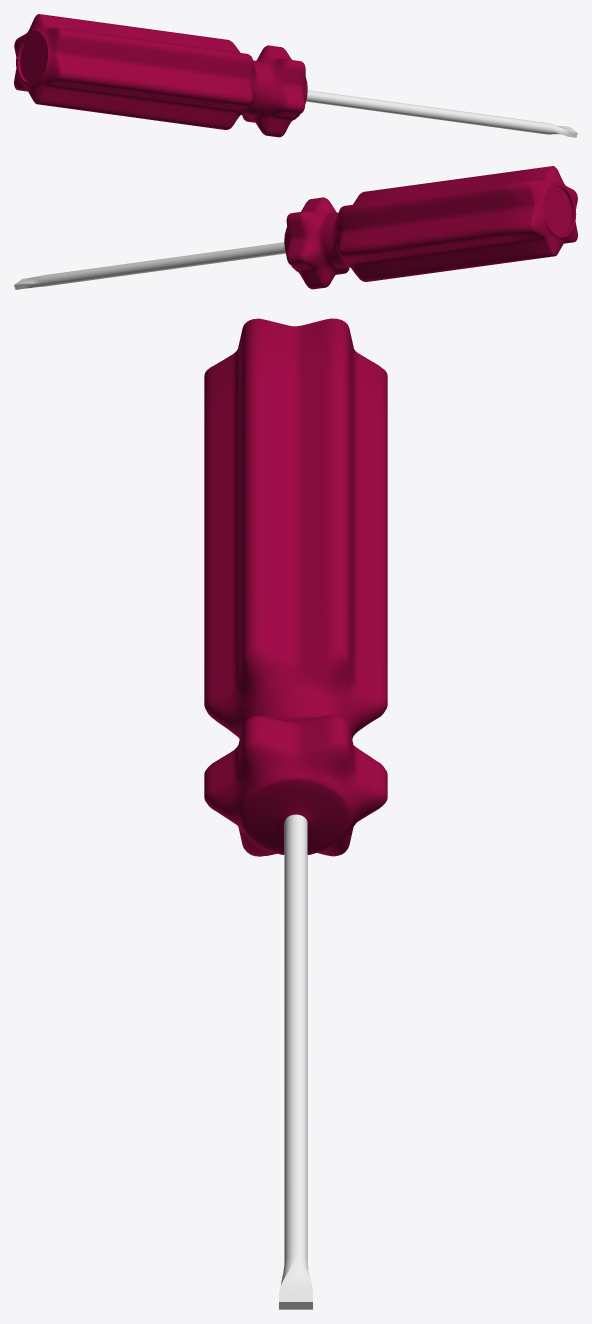
Rendered from screw 1.fbx.
The picture shows the model from 3 angles, top to bottom: view 1: azimuth 30°, elevation 25°; view 2: azimuth 150°, elevation 25°; view 3: azimuth 270°, elevation 25°; orthographic projection. The views are drawn at different scales.
Visible parts, largest first — view 1: Loft001, head; view 2: Loft001, head; view 3: Loft001, head.
Boxes of the visible parts, x1,y1,x2,y2 form: Loft001: (14,14,307,137); head: (306,90,577,137); Loft001: (284,166,577,289); head: (14,242,285,289); Loft001: (204,318,387,856); head: (279,814,312,1309).
Bounding box in the file's own units: 353 × 148 × 51.03.
